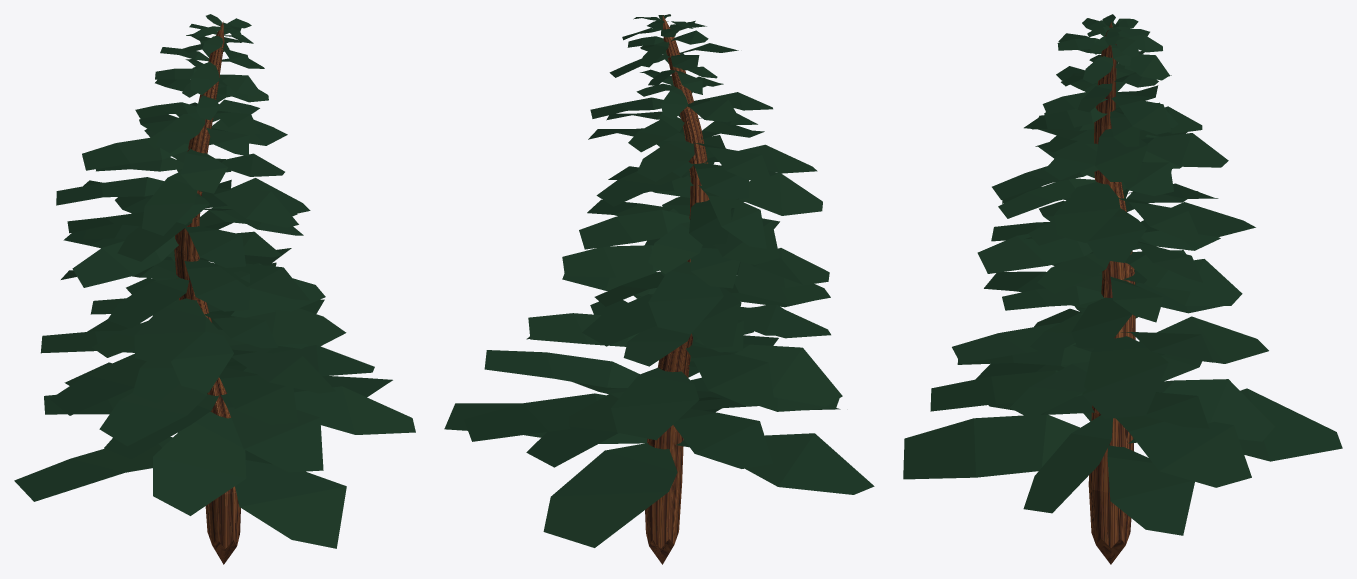
The model's file is tree3.fbx.
The picture shows the model from 3 angles, left to right: view 1: azimuth 30°, elevation 25°; view 2: azimuth 150°, elevation 25°; view 3: azimuth 270°, elevation 25°; orthographic projection.
Visible parts, largest first — view 1: Plane.007, Plane.003, Cylinder, Plane.011, Plane.006, Plane, Plane.015, Plane.031, Plane.012, Plane.019, Plane.027, Plane.018 (+39 smaller); view 2: Plane.001, Cylinder, Plane, Plane.013, Plane.004, Plane.010, Plane.005, Plane.019, Plane.016, Plane.037, Plane.009, Plane.047 (+31 smaller); view 3: Plane.003, Plane.005, Cylinder, Plane.002, Plane.017, Plane.006, Plane.001, Plane.009, Plane.011, Plane.039, Plane.049, Plane.014 (+34 smaller).
Part boxes in pixels (left/top/right/bottom): Plane.007: left=153, top=411, right=246, bottom=515; Plane.003: left=235, top=450, right=346, bottom=548; Cylinder: left=174, top=21, right=240, bottom=564; Plane.011: left=221, top=394, right=323, bottom=472; Plane.006: left=294, top=386, right=415, bottom=434; Plane: left=14, top=437, right=172, bottom=501; Plane.015: left=99, top=383, right=207, bottom=446; Plane.031: left=134, top=298, right=205, bottom=365; Plane.012: left=219, top=367, right=297, bottom=424; Plane.019: left=50, top=353, right=146, bottom=415; Plane.027: left=171, top=316, right=233, bottom=392; Plane.018: left=232, top=349, right=335, bottom=393; Plane.001: left=543, top=443, right=677, bottom=547; Cylinder: left=645, top=15, right=709, bottom=564; Plane: left=676, top=433, right=874, bottom=494; Plane.013: left=611, top=367, right=699, bottom=440; Plane.004: left=673, top=408, right=773, bottom=468; Plane.010: left=484, top=350, right=639, bottom=387; Plane.005: left=464, top=393, right=606, bottom=441; Plane.019: left=692, top=344, right=842, bottom=406; Plane.016: left=686, top=345, right=774, bottom=406; Plane.037: left=648, top=261, right=723, bottom=334; Plane.009: left=526, top=391, right=624, bottom=467; Plane.047: left=579, top=209, right=689, bottom=249; Plane.003: left=903, top=414, right=1079, bottom=479; Plane.005: left=1115, top=416, right=1251, bottom=487; Cylinder: left=1088, top=22, right=1135, bottom=564; Plane.002: left=1107, top=445, right=1194, bottom=535; Plane.017: left=1082, top=336, right=1168, bottom=418; Plane.006: left=1023, top=415, right=1112, bottom=513; Plane.001: left=1128, top=388, right=1342, bottom=461; Plane.009: left=1156, top=379, right=1274, bottom=441; Plane.011: left=930, top=370, right=1082, bottom=411; Plane.039: left=977, top=234, right=1092, bottom=273; Plane.049: left=1054, top=182, right=1120, bottom=242; Plane.014: left=1010, top=361, right=1088, bottom=419.
Bounding box in the file's own units: 1224 × 1644 × 1206.
